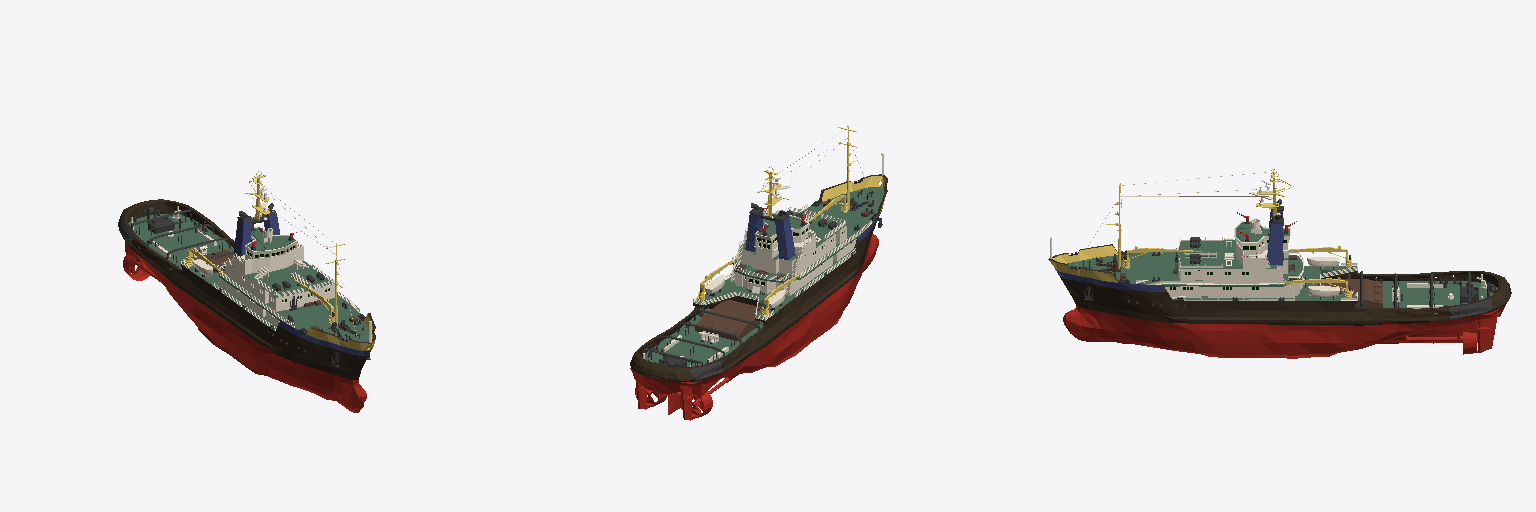
File: yacht2.obj
The picture shows the model from 3 angles: view 1: azimuth 30°, elevation 25°; view 2: azimuth 150°, elevation 25°; view 3: azimuth 270°, elevation 25°; orthographic projection.
Visible parts, largest first — view 1: smit_casco, smit_entrecamarotes_, smit_camarotes_centrales, smit_chimenea_, smit_camarotes_superiores, smit_barra_popa; view 2: smit_casco, smit_camarotes_centrales, smit_camarotes_inferiores, smit_chimenea_, smit_barra_popa, smit_entrecamarotes_, smit_turbina, smit_timon; view 3: smit_casco, smit_entrecamarotes_, smit_camarotes_inferiores, smit_camarotes_centrales, smit_turbina, smit_chimenea_, smit_barca, smit_grua_popa, smit_timon.
Part boxes in pixels (x1,y1,x2,y2): smit_casco: (118, 199, 375, 412); smit_entrecamarotes_: (229, 253, 334, 297); smit_camarotes_centrales: (228, 261, 334, 311); smit_chimenea_: (234, 215, 279, 257); smit_camarotes_superiores: (245, 226, 297, 264); smit_barra_popa: (131, 209, 233, 269); smit_casco: (630, 174, 887, 414); smit_camarotes_centrales: (742, 226, 846, 274); smit_camarotes_inferiores: (732, 239, 856, 295); smit_chimenea_: (745, 211, 795, 259); smit_barra_popa: (642, 308, 759, 365); smit_entrecamarotes_: (741, 212, 846, 260); smit_turbina: (635, 373, 739, 417); smit_timon: (636, 381, 694, 420); smit_casco: (1048, 244, 1511, 355); smit_entrecamarotes_: (1179, 240, 1287, 268); smit_camarotes_inferiores: (1165, 276, 1304, 297); smit_camarotes_centrales: (1179, 260, 1287, 281); smit_turbina: (1384, 320, 1476, 354); smit_chimenea_: (1267, 211, 1283, 264); smit_barca: (1307, 257, 1339, 296); smit_grua_popa: (1284, 246, 1351, 297); smit_timon: (1477, 317, 1496, 352).
Bounding box in the file's own units: 1892 × 3882 × 9377.